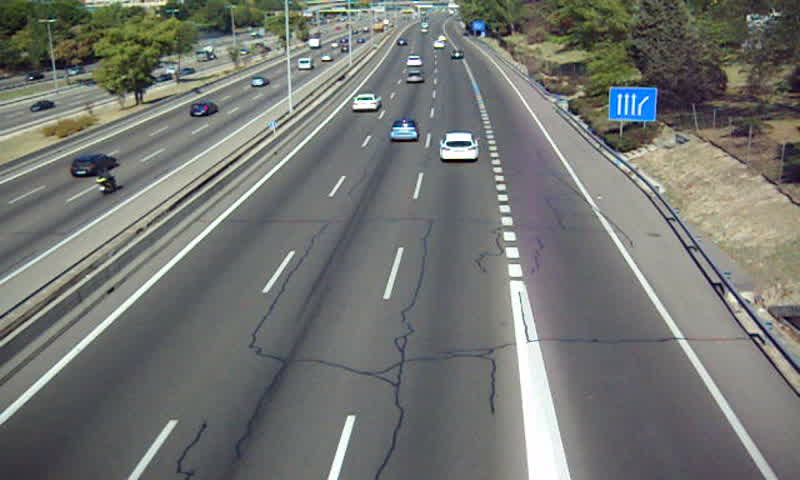car: (439, 132, 482, 162), (388, 120, 419, 144), (351, 93, 380, 112), (404, 71, 425, 84), (405, 54, 422, 68)
